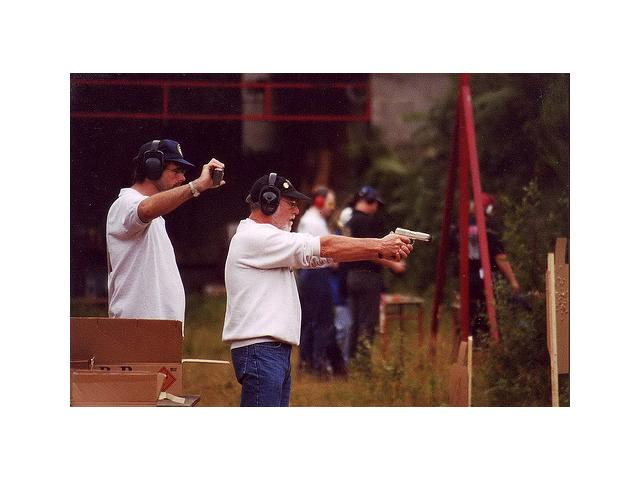pistol: (384, 227, 434, 268)
